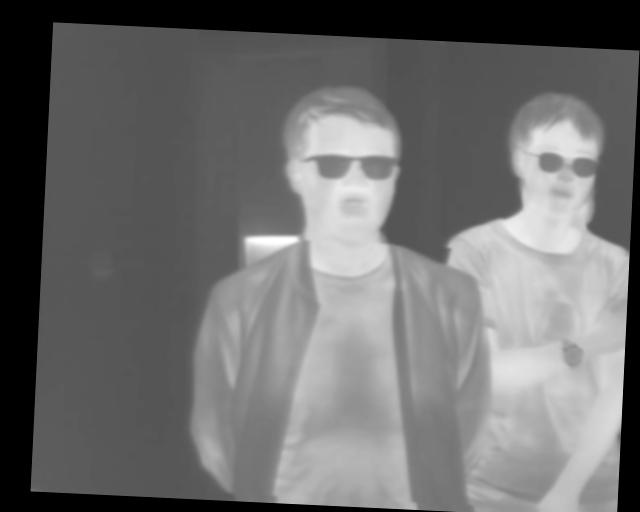face: (275, 81, 407, 244), (504, 89, 607, 215)
